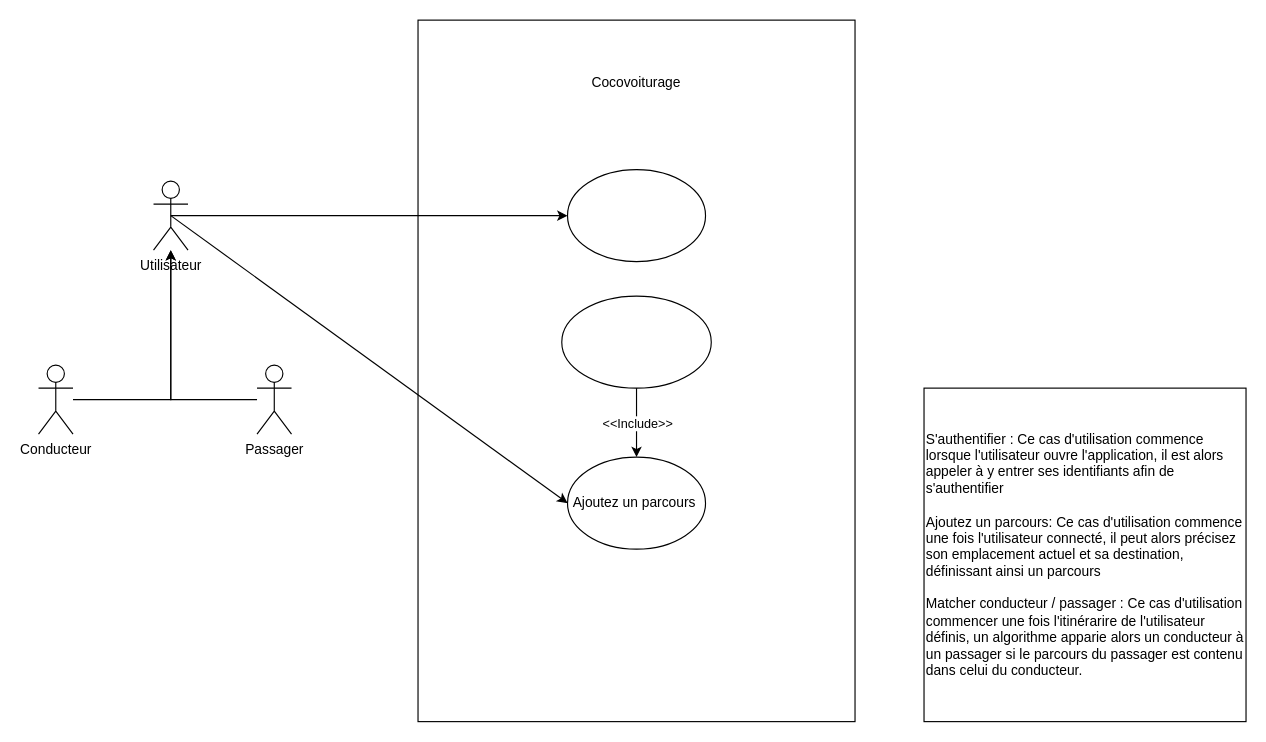
The diagram is 1266 pixels wide and 742 high, and some of its shapes have lost their labels. Here are the shapes that lost their labels. From the top down, the centre of each, then its label:
(x=636, y=215): s'authentifier
(x=636, y=341): Matcher conducteur / passager
